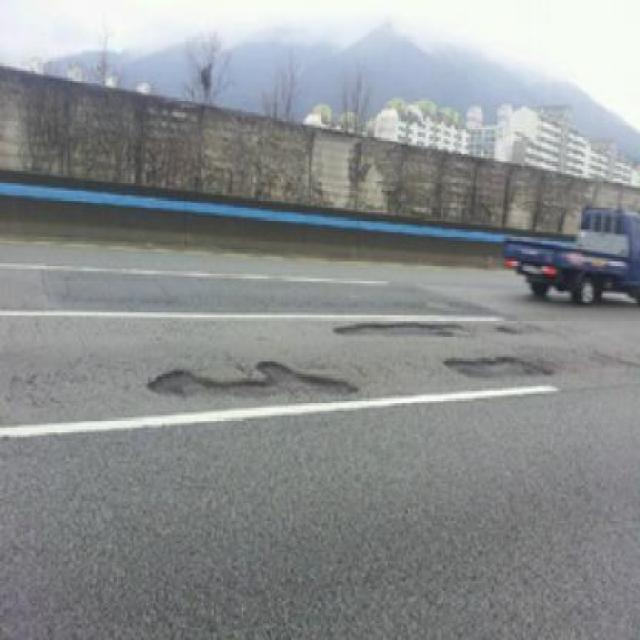Pothole: (150, 352, 362, 410), (442, 352, 560, 386), (332, 317, 473, 345)
